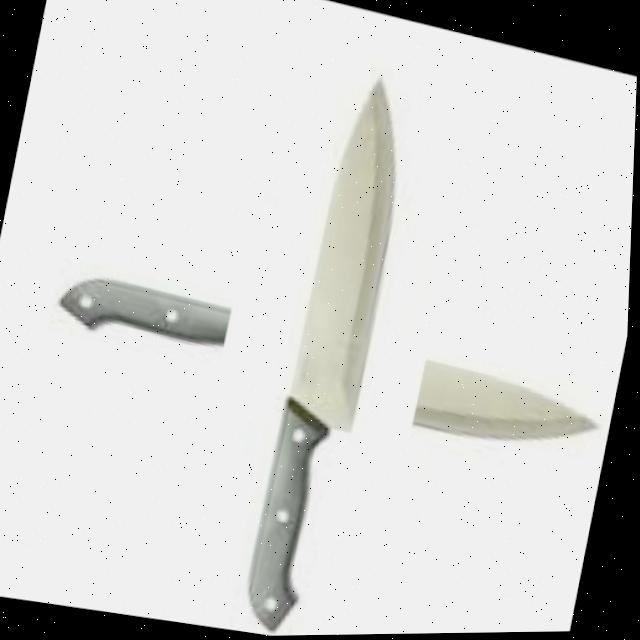knife: (42, 264, 620, 465), (240, 71, 424, 637)
